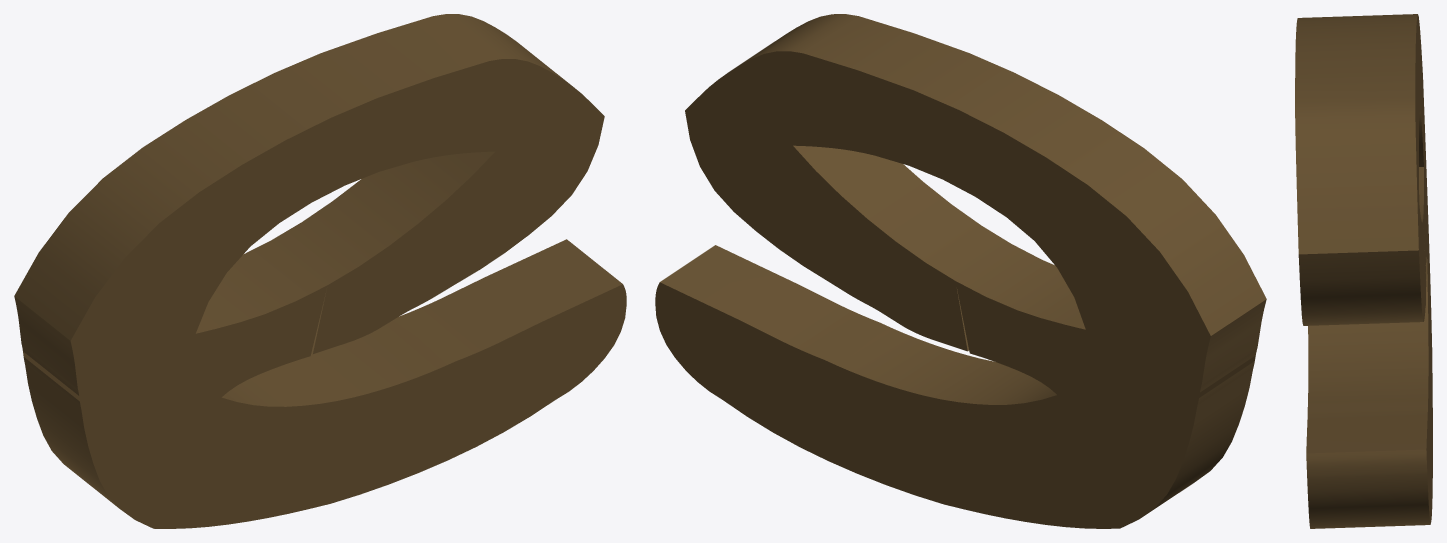
Rendered from original-74.obj.
3 views of the same model, side by side, from view 1: azimuth 30°, elevation 25°; view 2: azimuth 150°, elevation 25°; view 3: azimuth 270°, elevation 25° (orthographic). The views are drawn at different scales.
Parts seen in each view (by area): view 1: mesh184/mesh184-geometry#mesh184-geometry; view 2: mesh184/mesh184-geometry#mesh184-geometry; view 3: mesh184/mesh184-geometry#mesh184-geometry.
Boxes of the visible parts, x1=… form: mesh184/mesh184-geometry#mesh184-geometry: x1=14, y1=14, x2=626, y2=528; mesh184/mesh184-geometry#mesh184-geometry: x1=655, y1=14, x2=1266, y2=528; mesh184/mesh184-geometry#mesh184-geometry: x1=1295, y1=14, x2=1432, y2=528.
Size of the model in its own units: 0.0403 by 0.0287 by 0.00808.
